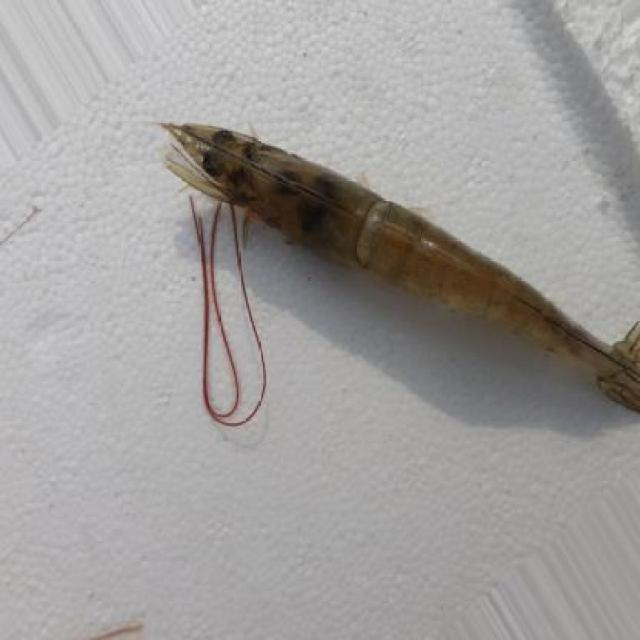shrimp: (153, 101, 640, 421)
